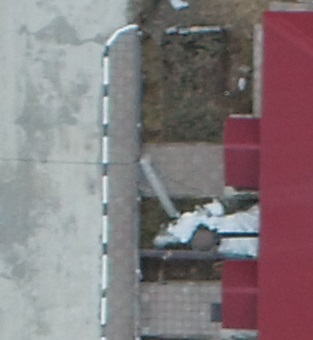opora: (135, 149, 186, 220)
